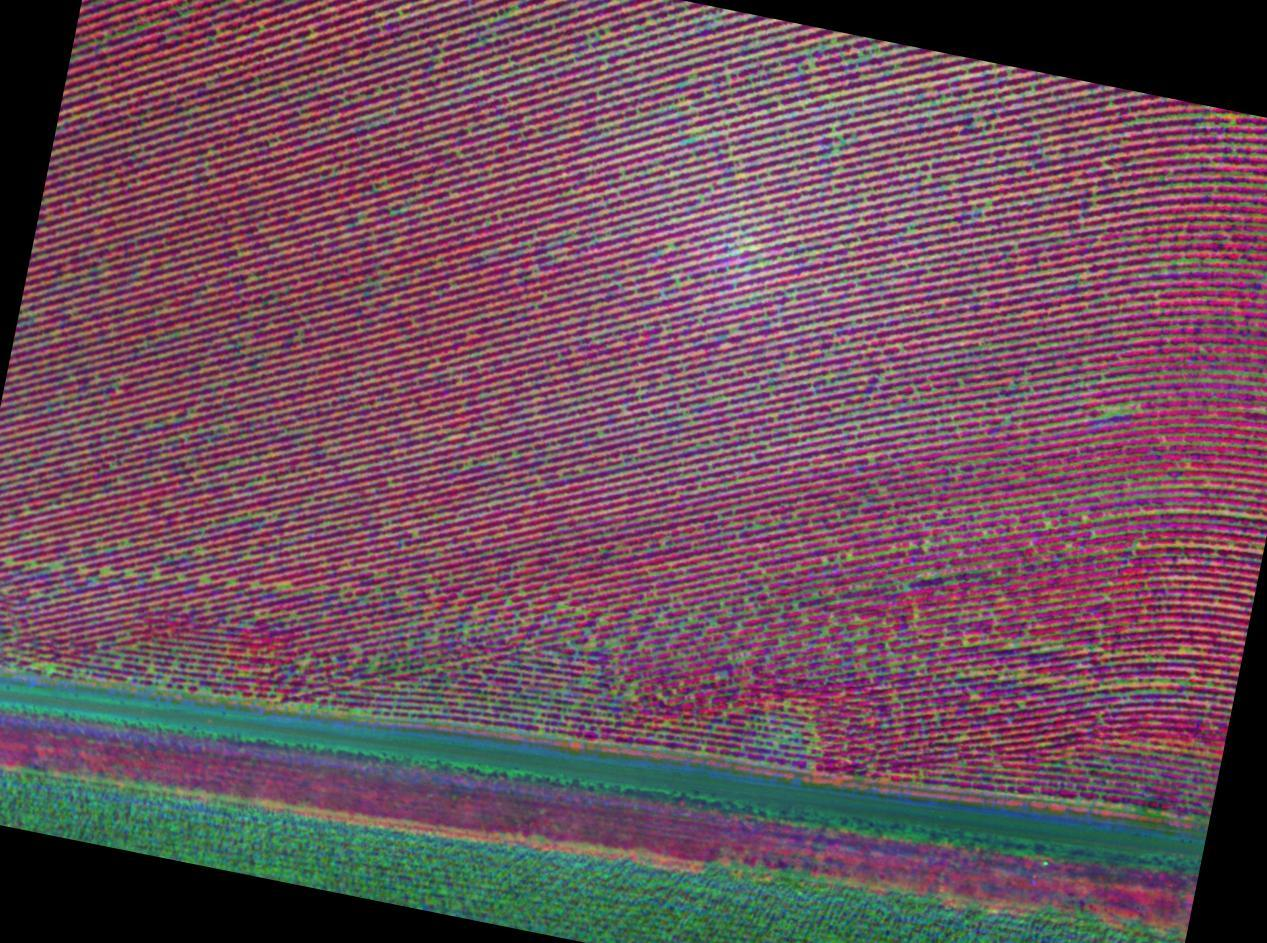dc: (808, 726, 813, 731), (775, 739, 780, 743), (1181, 259, 1185, 263), (722, 397, 726, 401), (104, 569, 108, 573), (180, 575, 184, 579), (7, 560, 11, 563), (253, 584, 257, 587), (306, 658, 310, 661), (238, 693, 241, 697), (880, 379, 883, 382)
